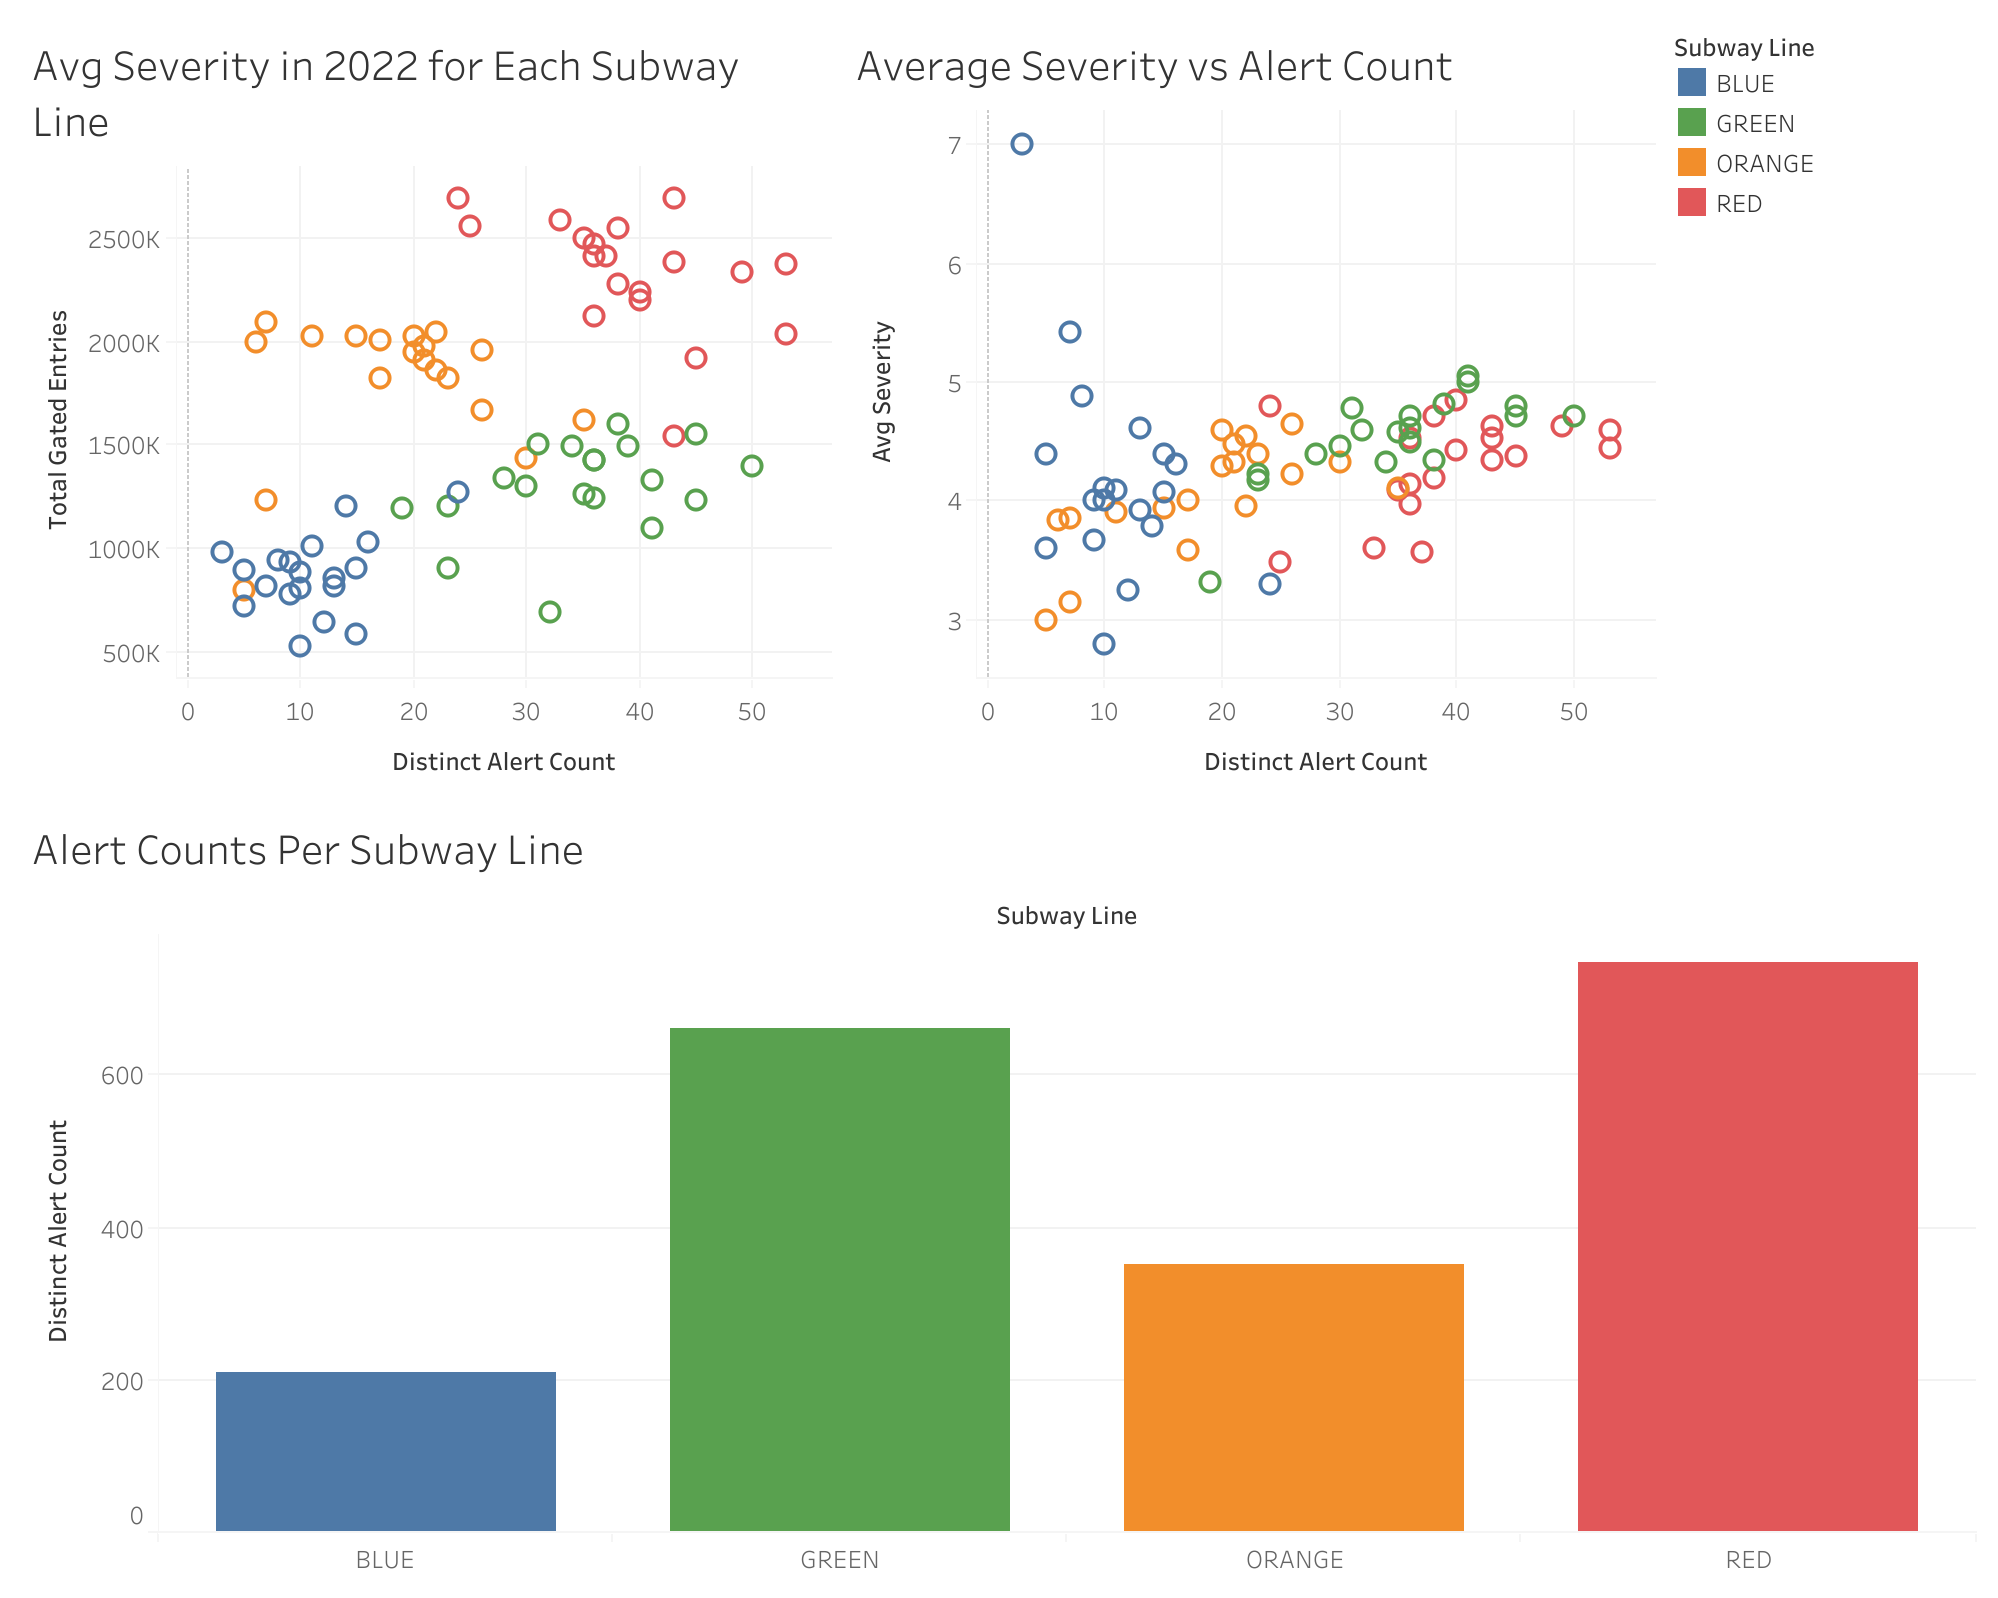

The dashboard page shown, as its layout file describes it:
{"tool":"tableau","page":{"name":"Dashboard 1","canvas":[1000,800],"ordinal":0},"visuals":[{"type":"worksheet","title":"Sheet 4","mark":"Automatic","cols":["Calculation_653373808237260804"],"box":[8,8,515,784]},{"type":"worksheet","title":"Sheet 3","mark":"Automatic","box":[523,8,469,453]},{"type":"worksheet","title":"Sheet 1","mark":"Automatic","rows":["cause_code"],"cols":["effect_name"],"box":[523,461,469,331]}]}

Visuals, with their boxes in screenshot pixels (x1, y1, x2, y2), scaled from the page's 1000x800 canvas onto the 1998x1598 screenshot:
"Sheet 4" worksheet: x1=16 y1=16 x2=1045 y2=1582
"Sheet 3" worksheet: x1=1045 y1=16 x2=1982 y2=921
"Sheet 1" worksheet: x1=1045 y1=921 x2=1982 y2=1582
